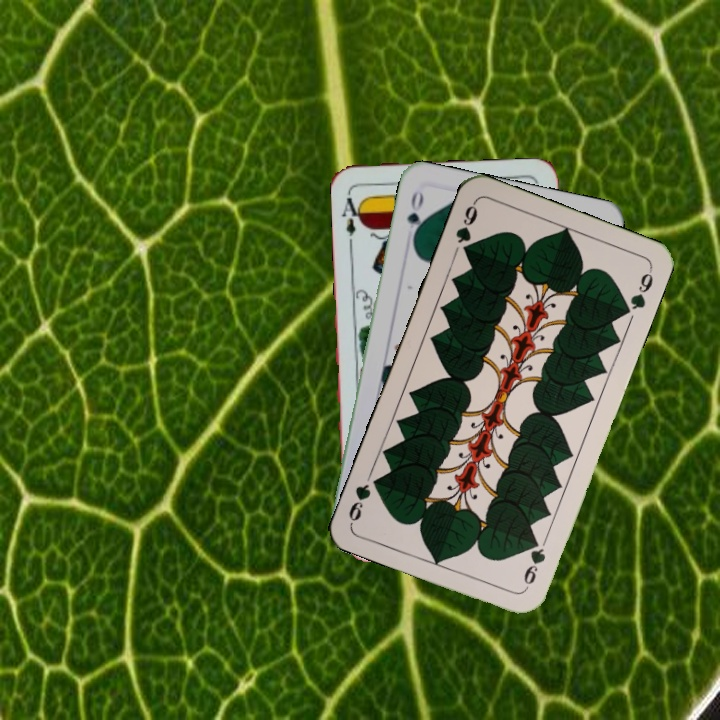EA: (338, 193, 365, 238)
G9: (451, 197, 480, 258), (519, 532, 548, 592)
GO: (402, 186, 427, 245)
